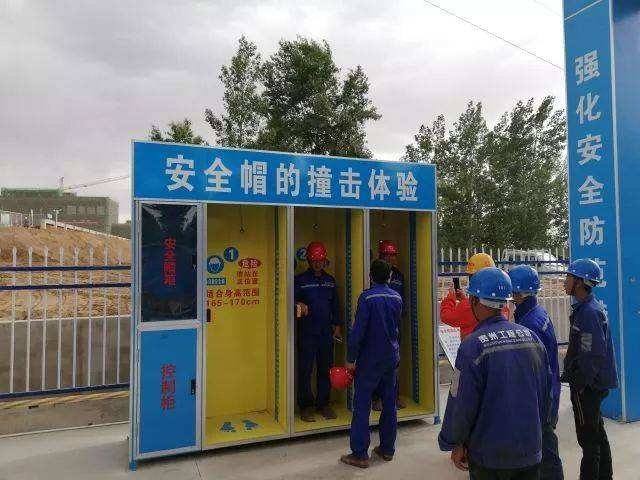blue: (466, 266, 515, 320), (561, 256, 603, 301), (506, 261, 542, 308)
none: (366, 259, 392, 288)
red: (303, 238, 329, 275), (376, 238, 400, 267)
